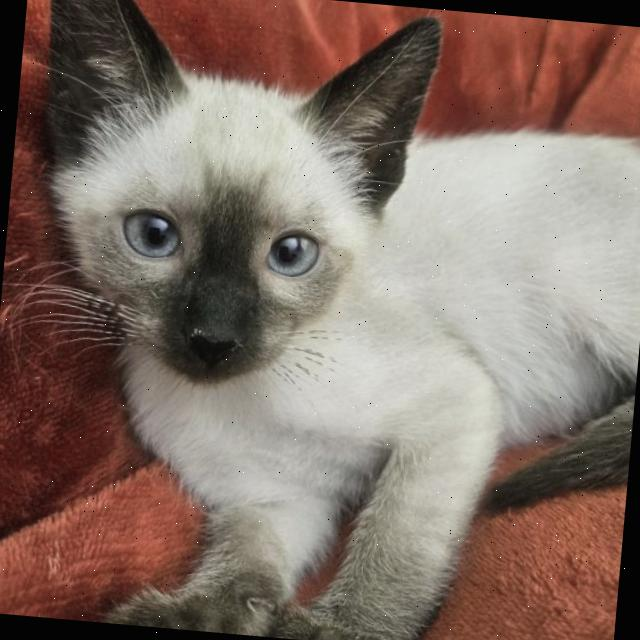siamese_cat: (3, 0, 450, 430)
